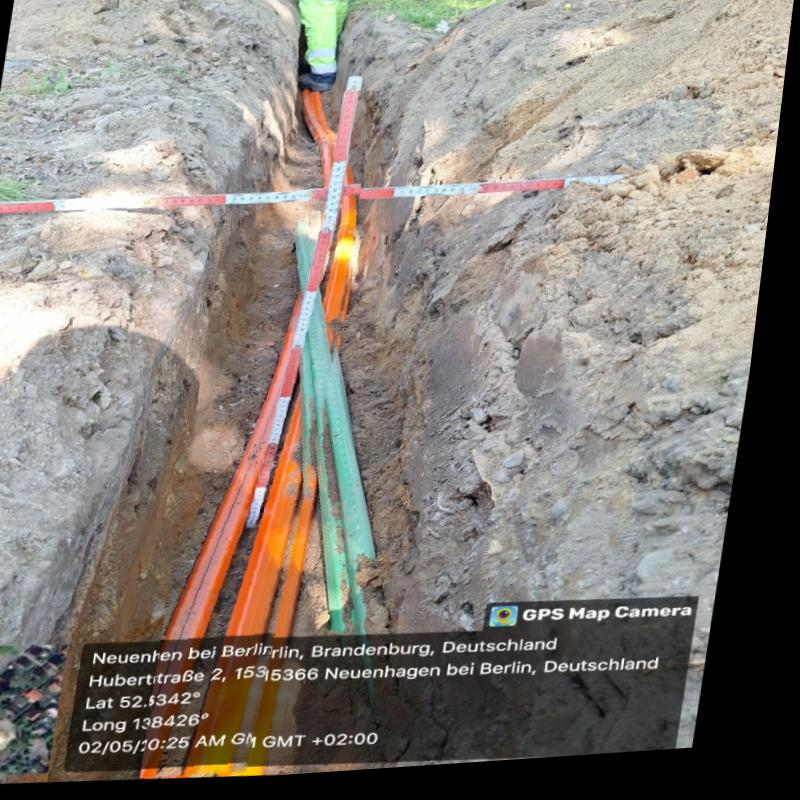Orang-Speednetrohrchen: (160, 229, 361, 778), (306, 97, 362, 226)
